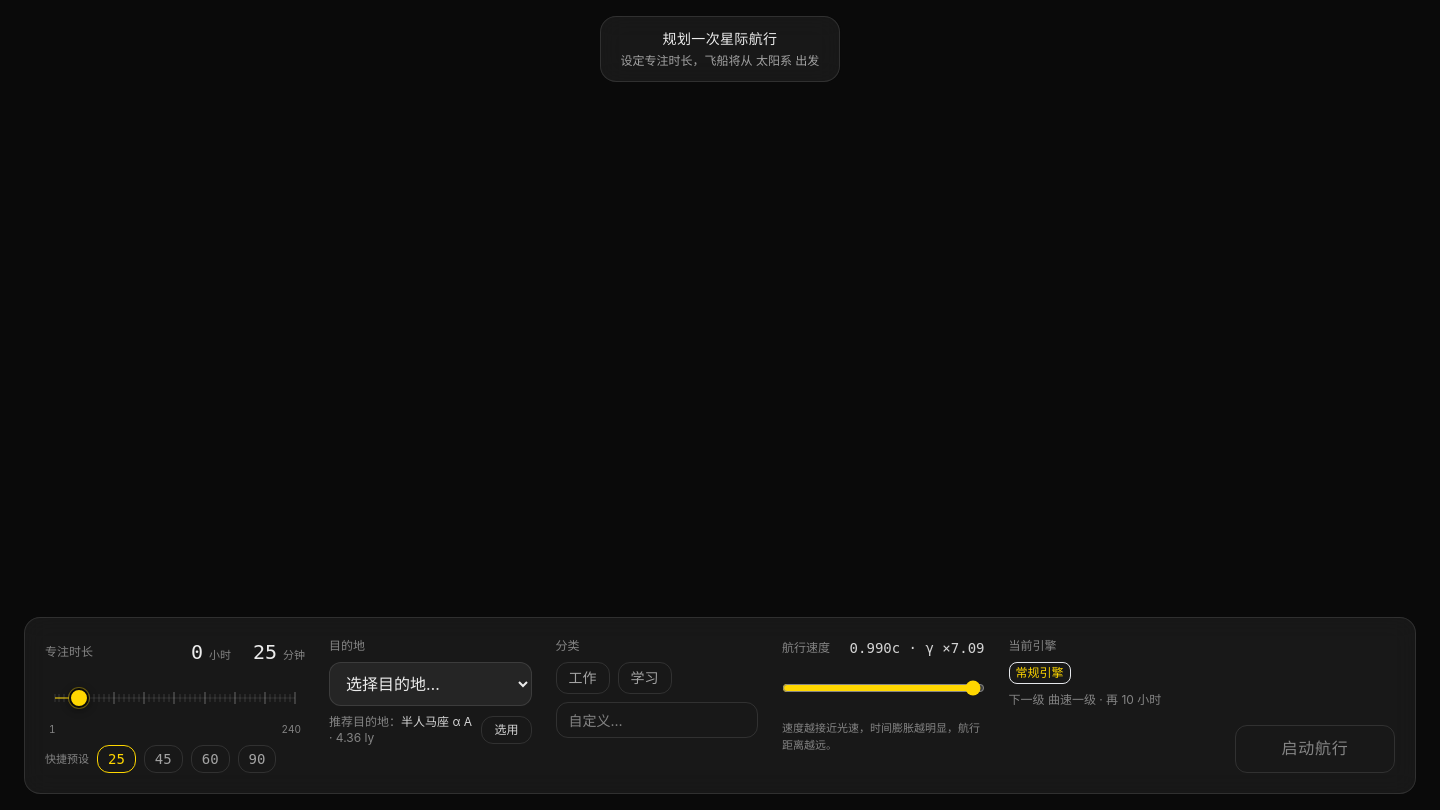
Test: SetupPanel › 拉长专注时长至可达 → 不可达提示消失、可启动
The width and height of the screenshot is (1440, 810).
Step 1. Replace the text in the number field named "专注时长（小时）" with "2" → (183, 652), box [163,638,203,666]
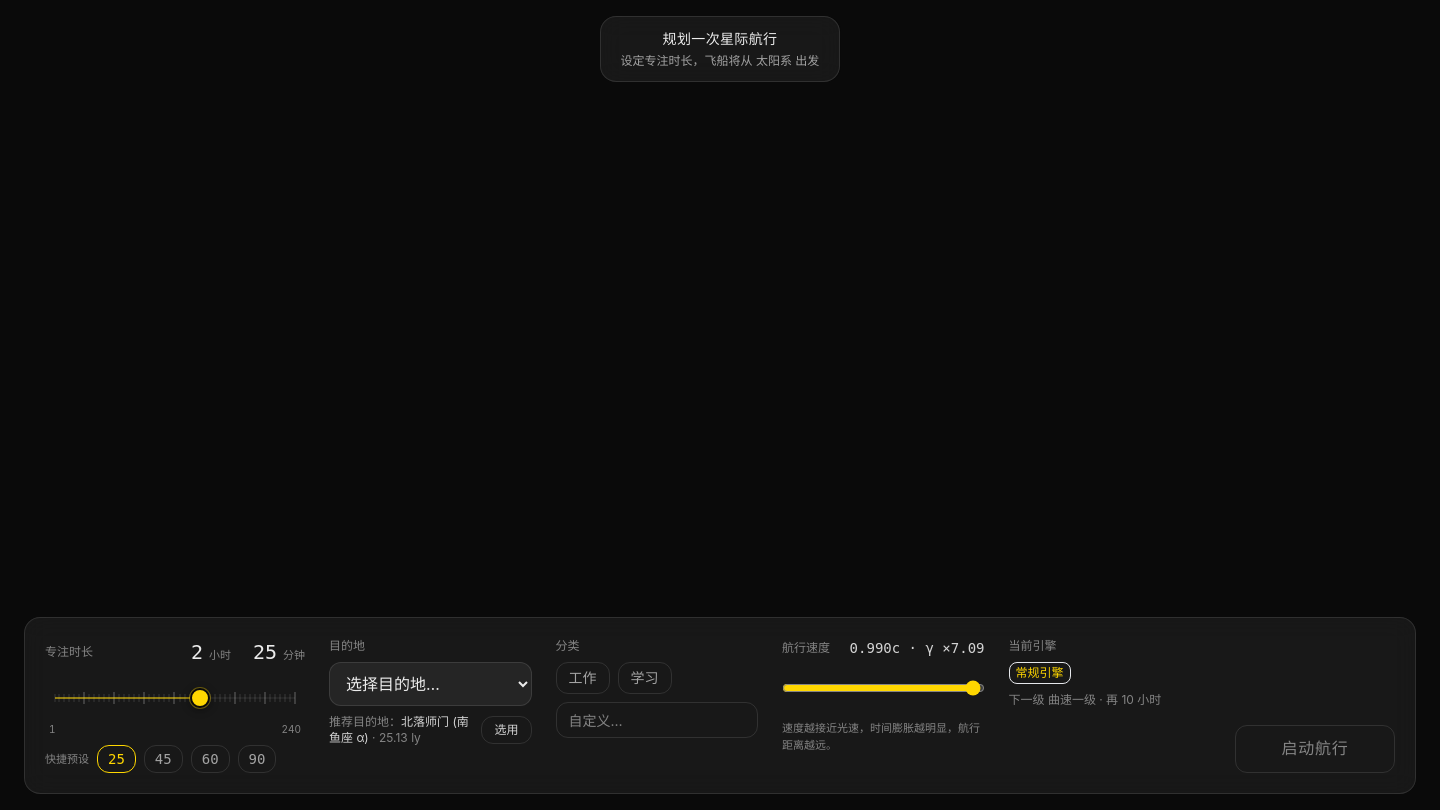
Step 2. Replace the text in the number field named "自定义专注时长（分钟）" with "30" → (257, 652), box [237,638,277,666]
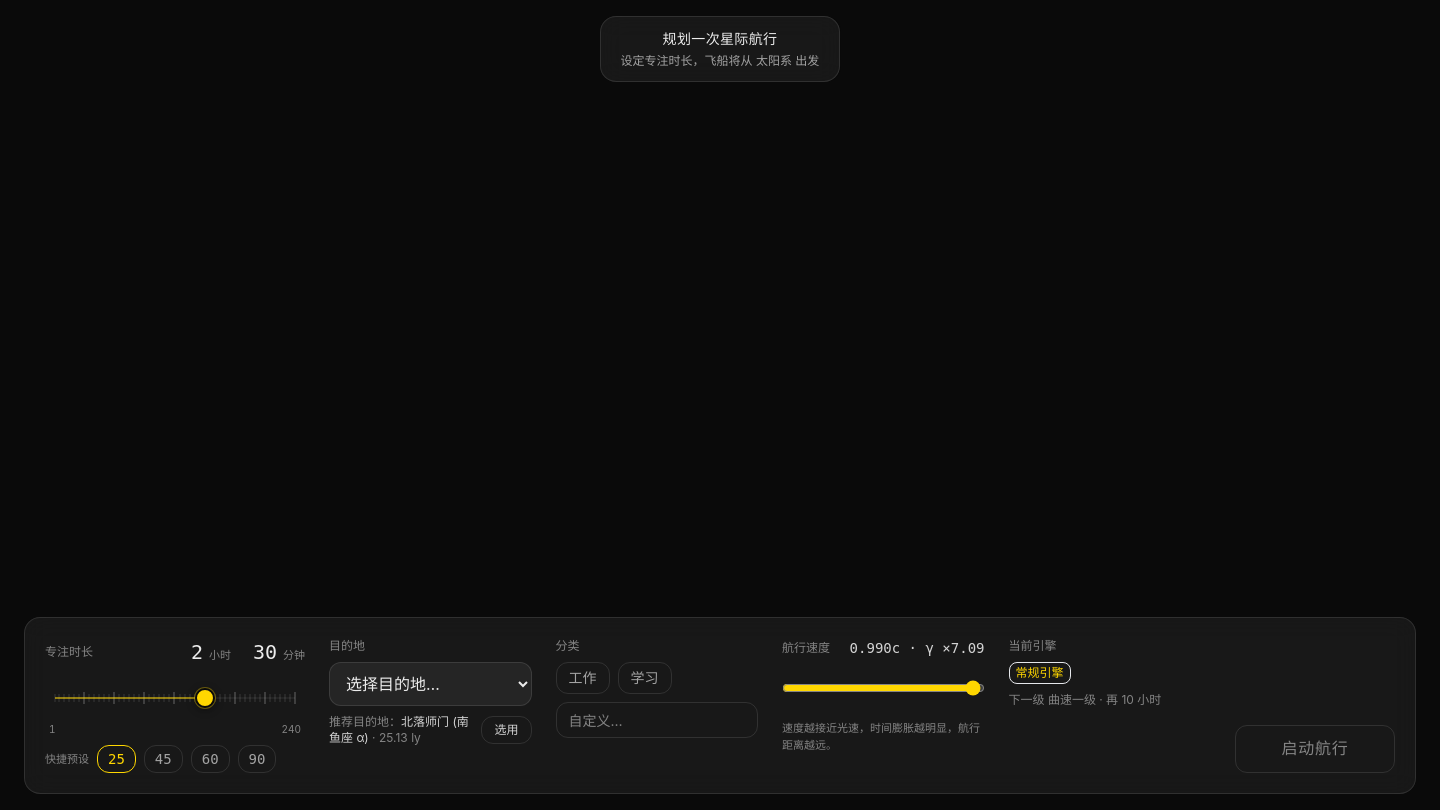
Step 3. Select "织女一 (天琴座 α Vega) · 25.04 ly" in the dropdown labelled "目的地" → (430, 684), box [329,662,532,706]
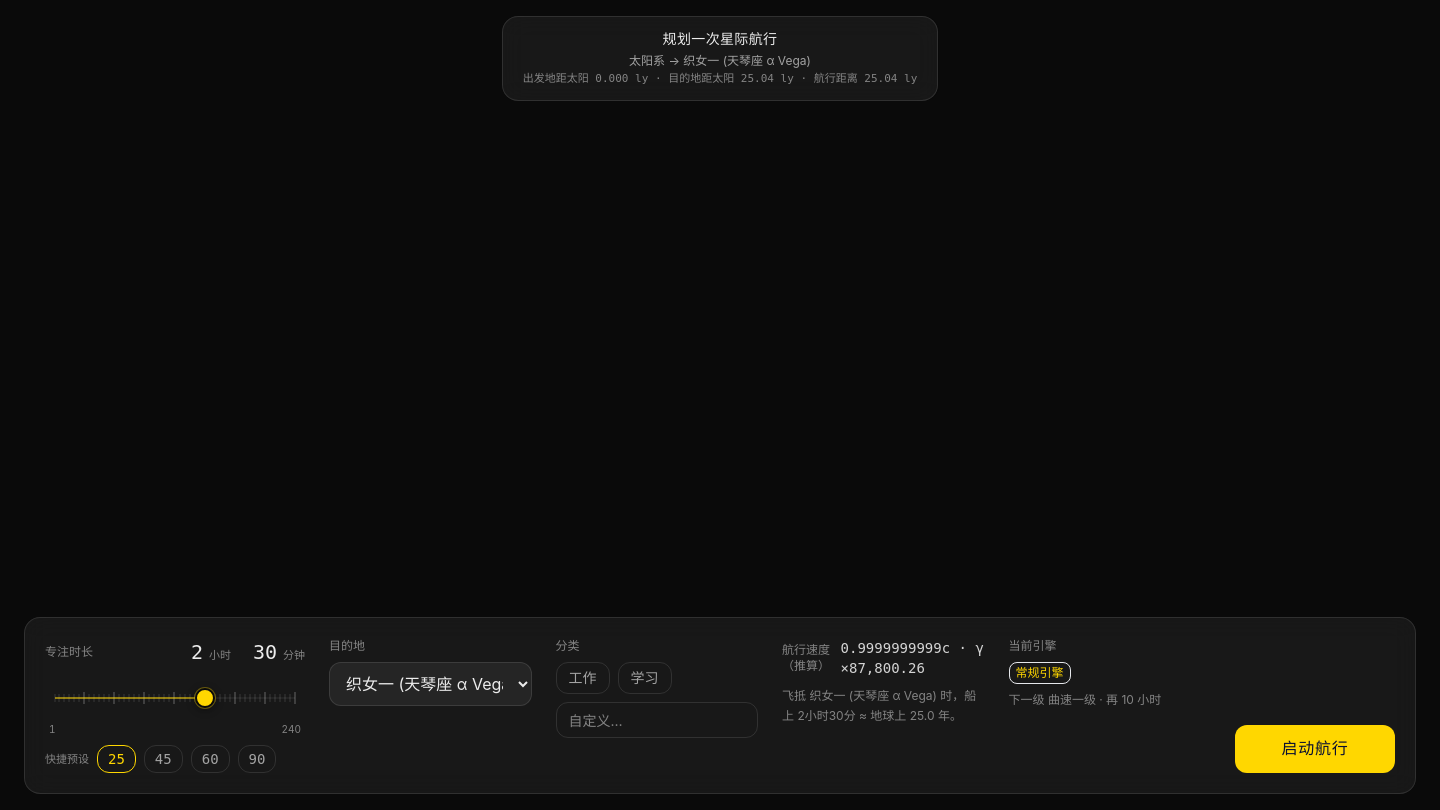
expect the button "启动航行" is enabled: met, box [1235,725,1395,773]
